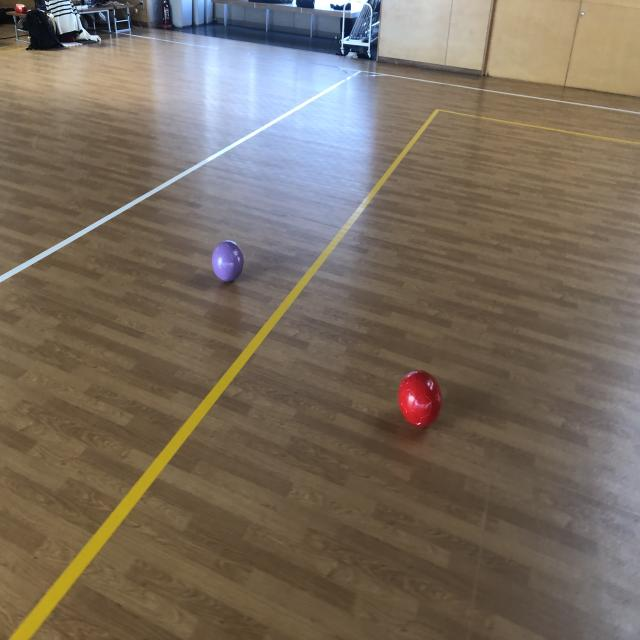purple_ball: (213, 242, 242, 281)
red_ball: (398, 370, 444, 428)
